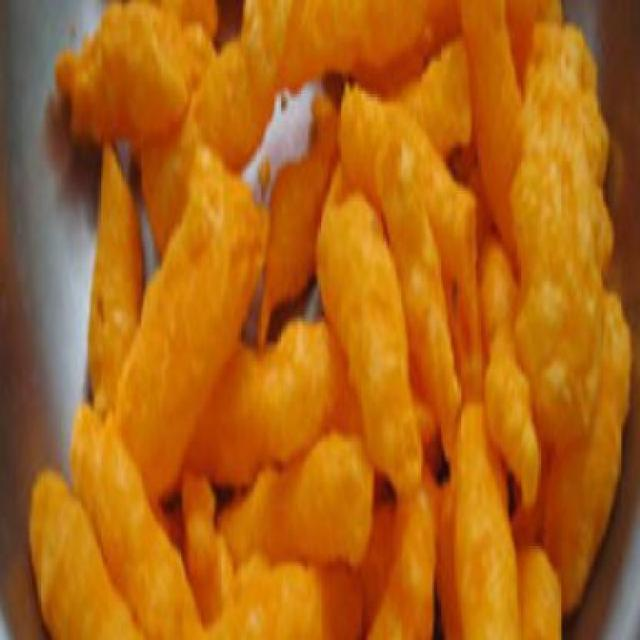Chips packaged: (35, 8, 616, 638)
